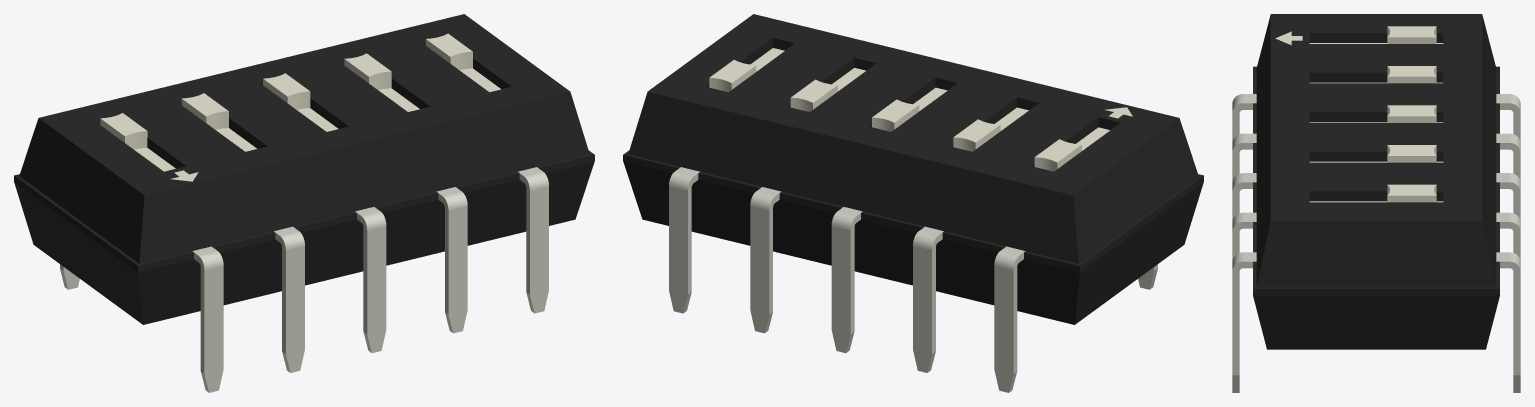
The model's file is kc-sw_dip_spstx05_slide_6.7x14.26mm_w7.62mm_p2.54mm_lowprofile.glb.
3 views of the same model, side by side, from view 1: azimuth 30°, elevation 25°; view 2: azimuth 150°, elevation 25°; view 3: azimuth 270°, elevation 25° (orthographic).
Parts seen in each view (by area): view 1: 0_0_0_0, 0.6666666666666666_0.6666666666666666_0.5833333333333334_0.8, 0.75_0.75_0.6666666666666666_0; view 2: 0_0_0_0, 0.6666666666666666_0.6666666666666666_0.5833333333333334_0.8, 0.75_0.75_0.6666666666666666_0; view 3: 0_0_0_0, 0.6666666666666666_0.6666666666666666_0.5833333333333334_0.8, 0.75_0.75_0.6666666666666666_0.
Part boxes in pixels (bbox=[...]): 0_0_0_0: bbox=[14, 14, 594, 324]; 0.6666666666666666_0.6666666666666666_0.5833333333333334_0.8: bbox=[60, 167, 548, 392]; 0.75_0.75_0.6666666666666666_0: bbox=[100, 33, 500, 181]; 0_0_0_0: bbox=[623, 14, 1203, 324]; 0.6666666666666666_0.6666666666666666_0.5833333333333334_0.8: bbox=[669, 167, 1157, 392]; 0.75_0.75_0.6666666666666666_0: bbox=[709, 48, 1132, 171]; 0_0_0_0: bbox=[1253, 14, 1499, 349]; 0.6666666666666666_0.6666666666666666_0.5833333333333334_0.8: bbox=[1232, 94, 1520, 392]; 0.75_0.75_0.6666666666666666_0: bbox=[1275, 26, 1443, 202].
Bounding box in the file's own units: 1.43 × 0.6 × 0.782.
